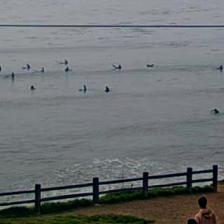surfer: (211, 108, 220, 113), (217, 65, 223, 71), (64, 66, 70, 72), (82, 84, 86, 92), (11, 72, 15, 80), (30, 86, 36, 91), (106, 85, 110, 92), (63, 59, 68, 64), (41, 67, 45, 73), (146, 64, 153, 67), (118, 64, 122, 69), (26, 64, 30, 69), (0, 65, 2, 71)
